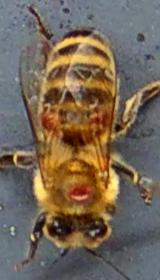varroa_mite: (83, 99, 118, 138), (38, 98, 66, 141), (66, 165, 95, 206)
